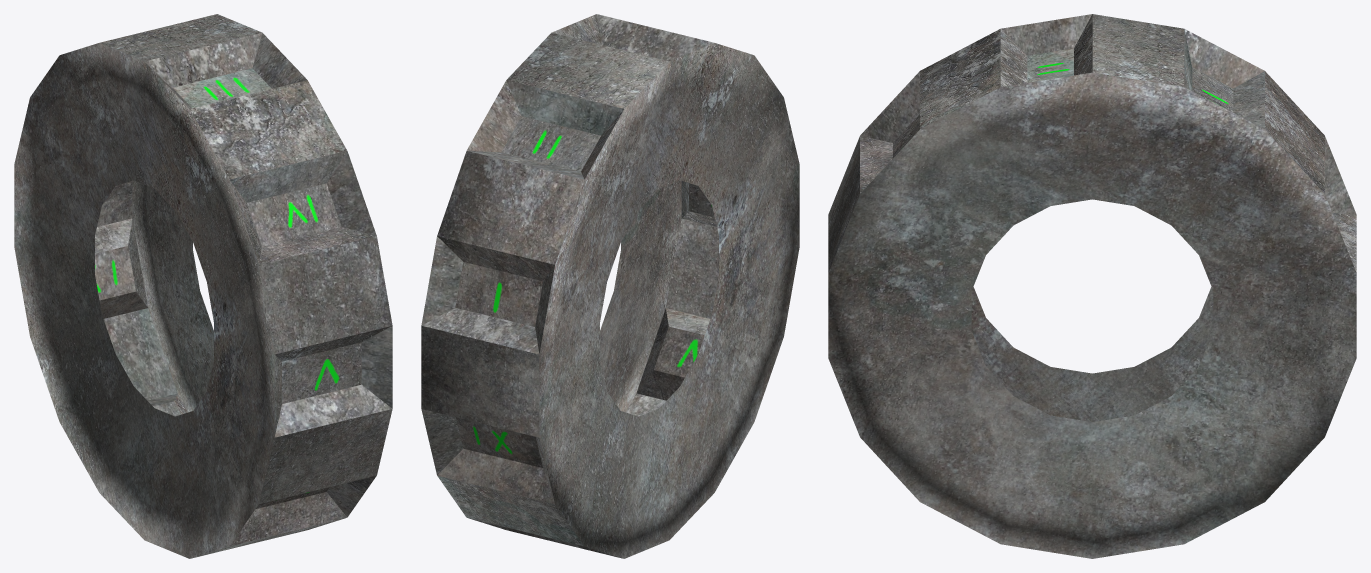
Rendered from Tuerca_Lista.fbx.
The picture shows the model from 3 angles, left to right: view 1: azimuth 30°, elevation 25°; view 2: azimuth 150°, elevation 25°; view 3: azimuth 270°, elevation 25°; orthographic projection.
Visible parts, largest first — view 1: pCylinder1; view 2: pCylinder1; view 3: pCylinder1.
Part boxes in pixels (x1=…): pCylinder1: x1=14, y1=14, x2=392, y2=558; pCylinder1: x1=421, y1=14, x2=799, y2=558; pCylinder1: x1=828, y1=14, x2=1356, y2=558.
Size of the model in its own units: 2.26 by 8.77 by 8.63.
